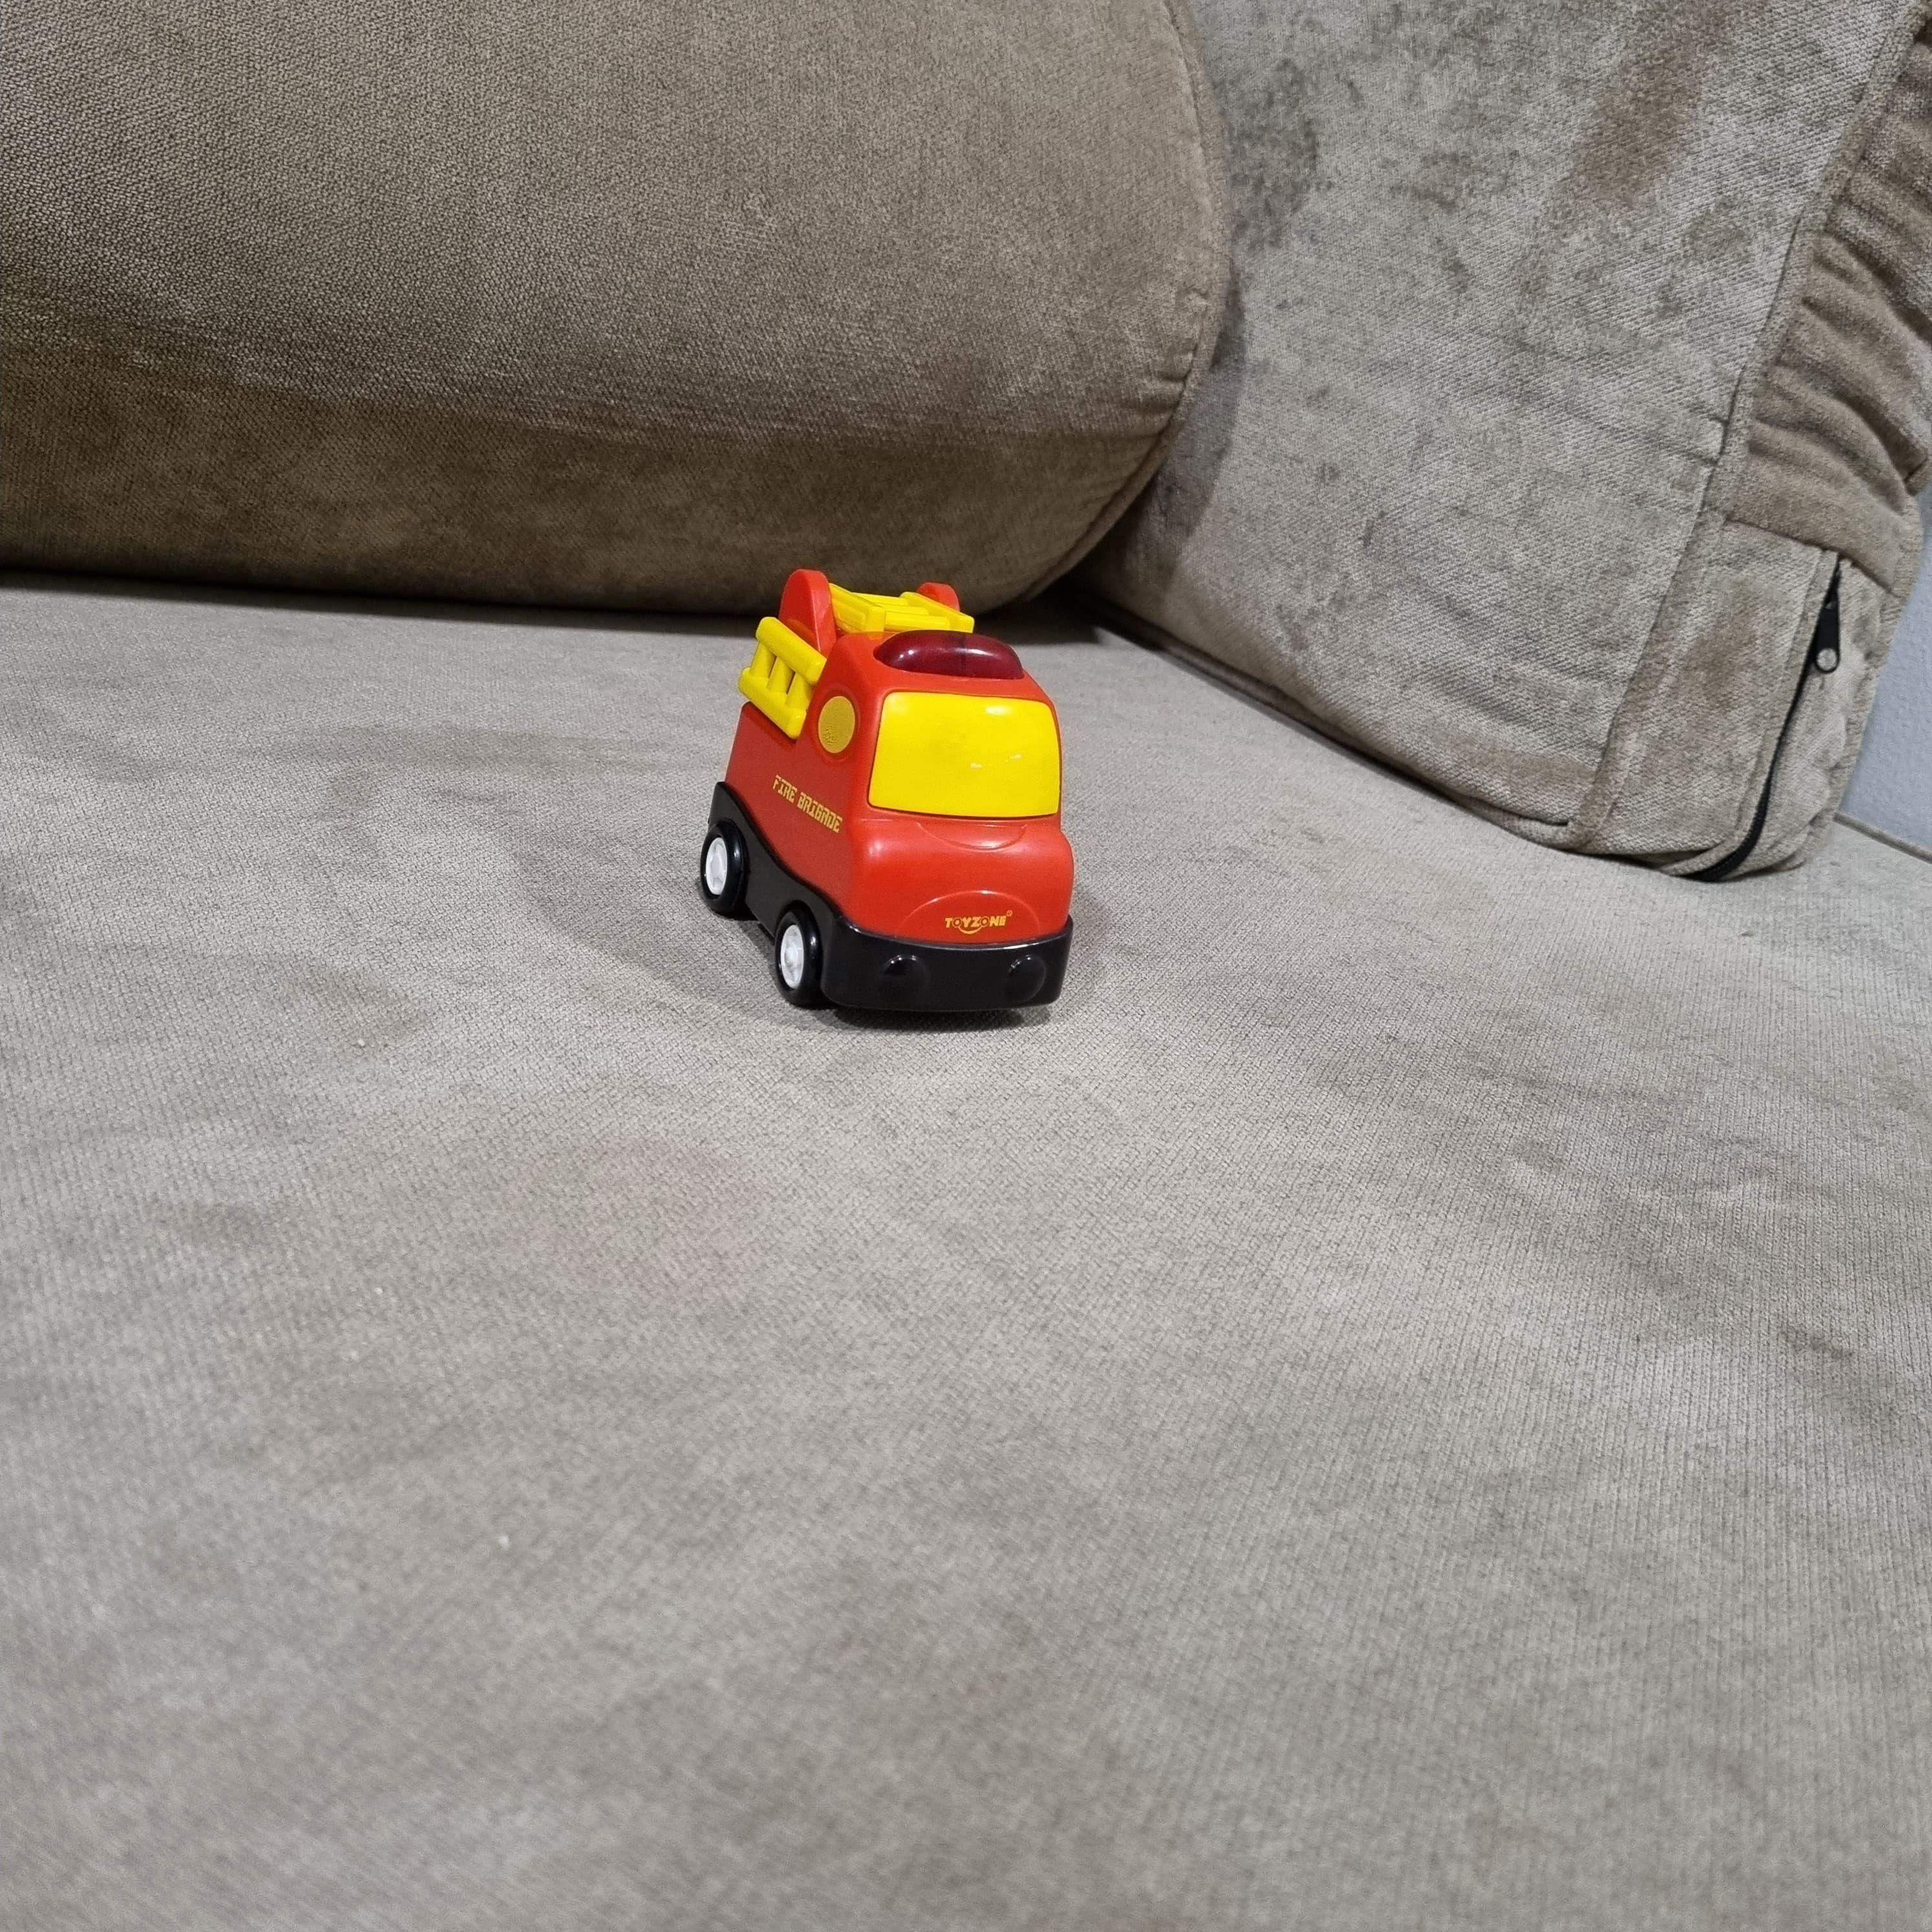firetruck_off: (699, 570, 1076, 1023)
